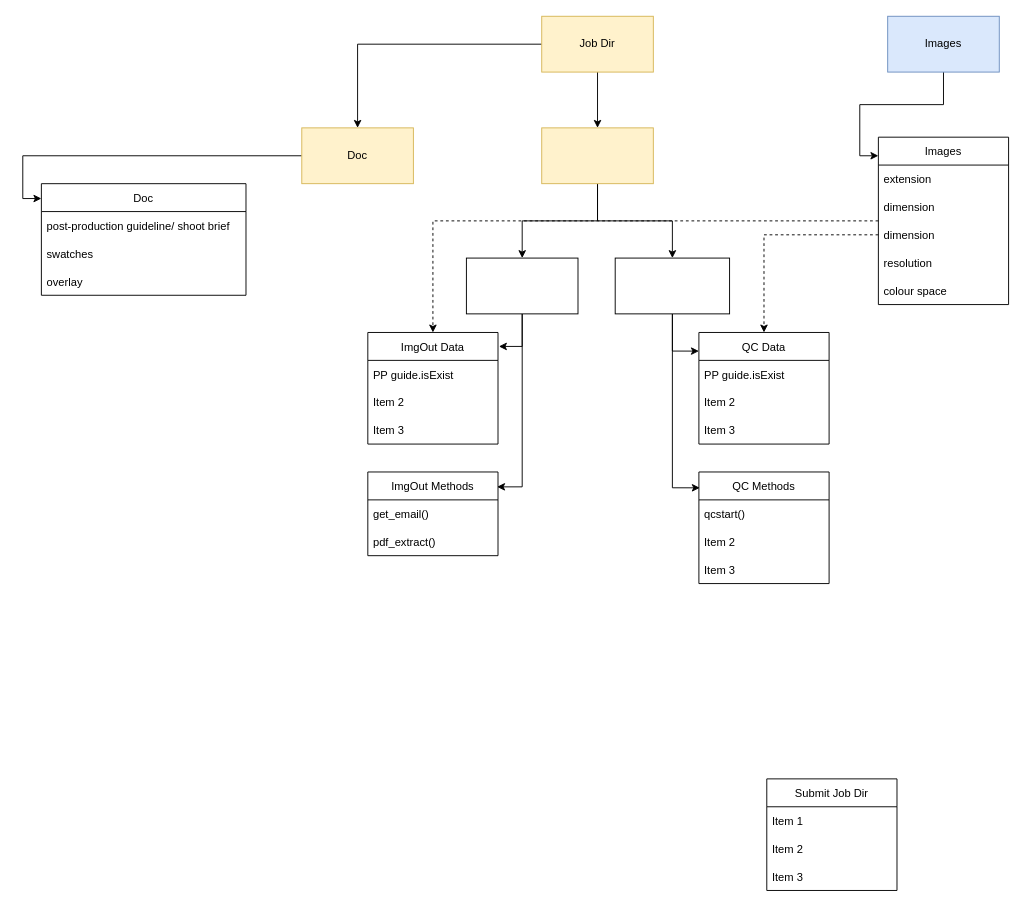
Image size: 1025x907. Some labels were removed from this diagram. The shapes that lost their labels are listed below. From the top down, each one's centre as x and y in pixels, then its label:
point (597, 155): Brand(Object)
point (521, 285): To Sent
point (672, 285): QC
